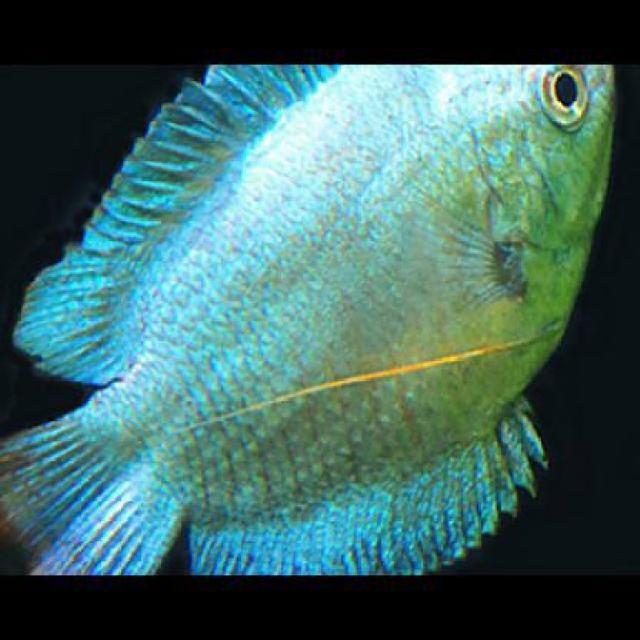Gourami: (0, 63, 618, 574)
